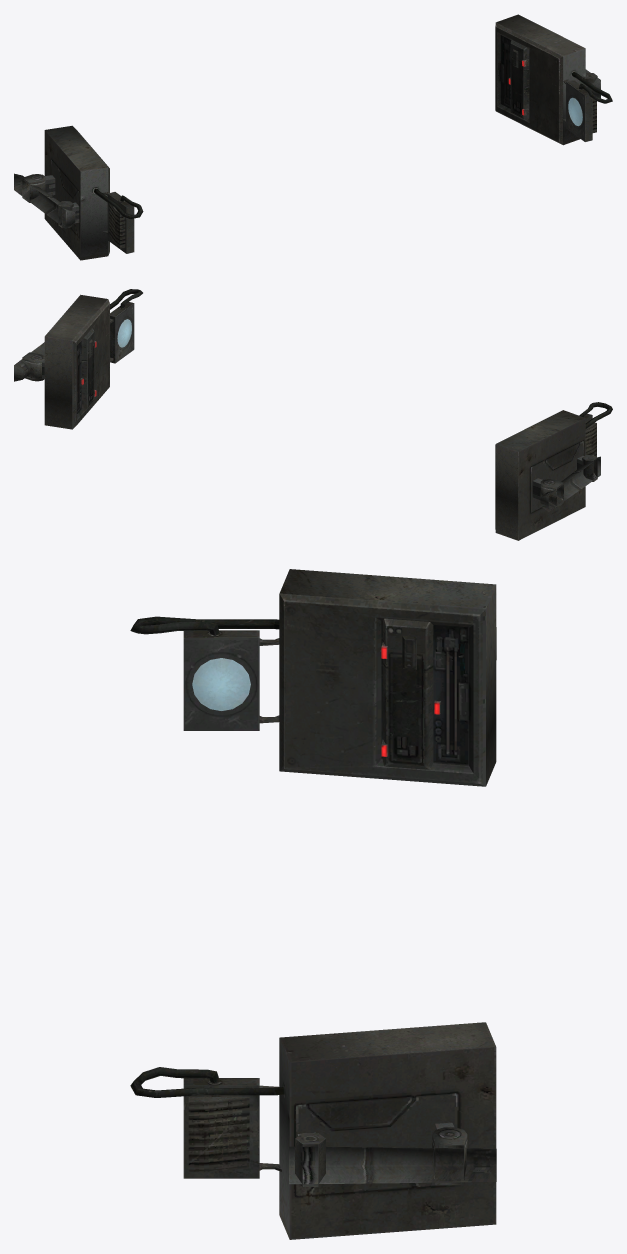
The model's file is scan_machine_quarantine_wall.DAE.
The picture shows the model from 3 angles, top to bottom: view 1: azimuth 30°, elevation 25°; view 2: azimuth 150°, elevation 25°; view 3: azimuth 270°, elevation 25°; orthographic projection. The views are drawn at different scales.
Visible parts, largest first — view 1: scan_machine_quarantine_wall; view 2: scan_machine_quarantine_wall; view 3: scan_machine_quarantine_wall.
Part boxes in pixels (x1,y1,x2,y2): scan_machine_quarantine_wall: (14, 14, 612, 260); scan_machine_quarantine_wall: (14, 289, 612, 540); scan_machine_quarantine_wall: (130, 569, 496, 1239).
Size of the model in its own units: 6.02 by 1.78 by 0.955.
